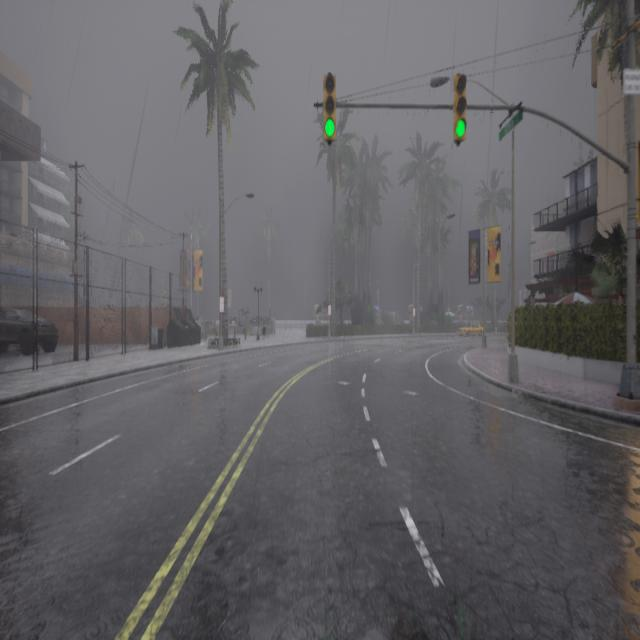9: (322, 71, 338, 143), (453, 72, 467, 145)
bien_hieu_lenh: (454, 116, 467, 140), (324, 118, 336, 138)
